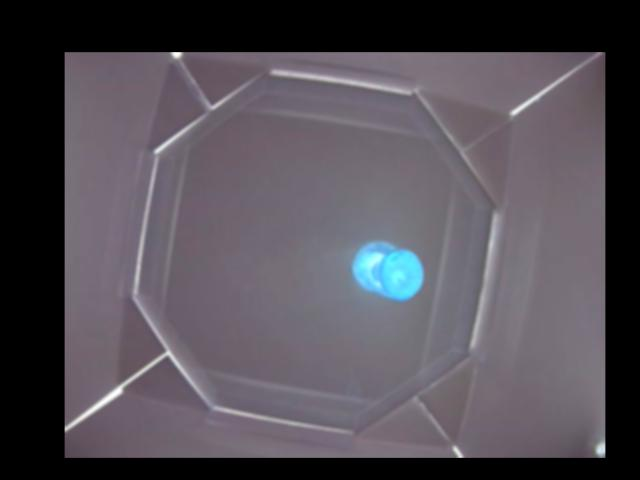Carrot: (353, 238, 423, 298)
